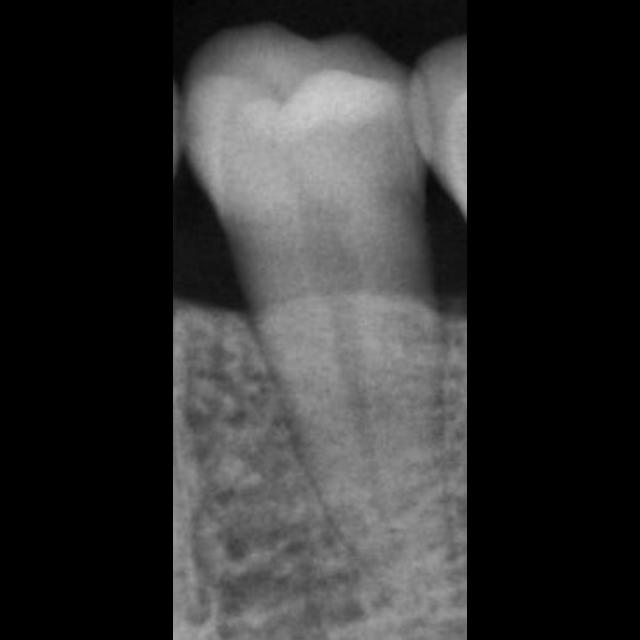tooth: (185, 28, 461, 620)
